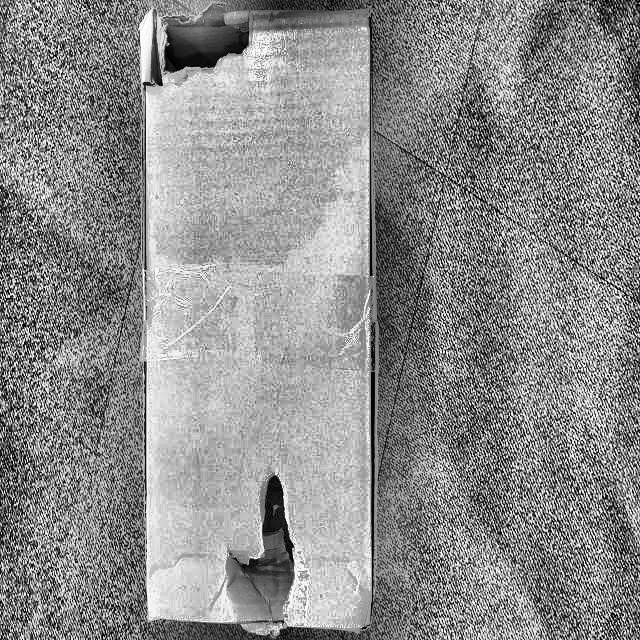box: (128, 2, 396, 635)
hole: (220, 467, 300, 621), (146, 12, 251, 102)
